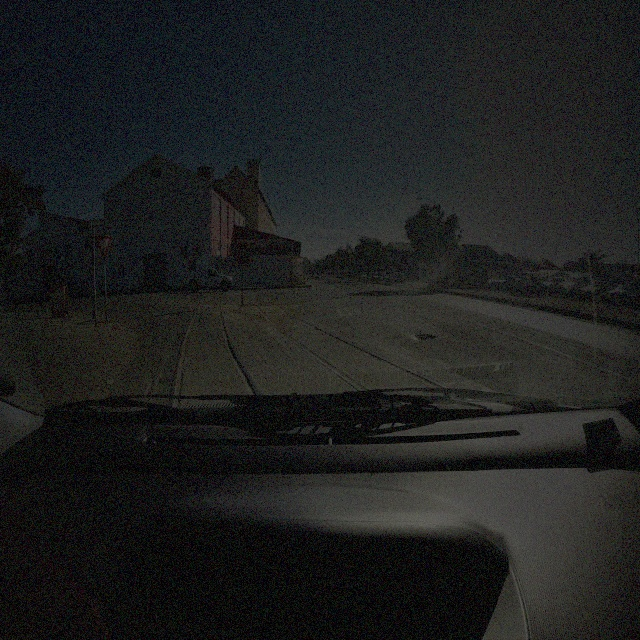pothole: (413, 331, 437, 344), (350, 302, 357, 306)
